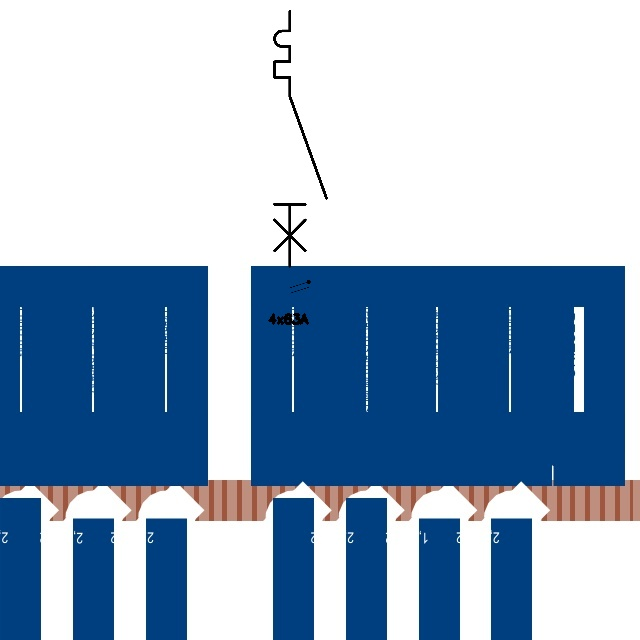interruptor_termomagnetico: (268, 5, 333, 272)
